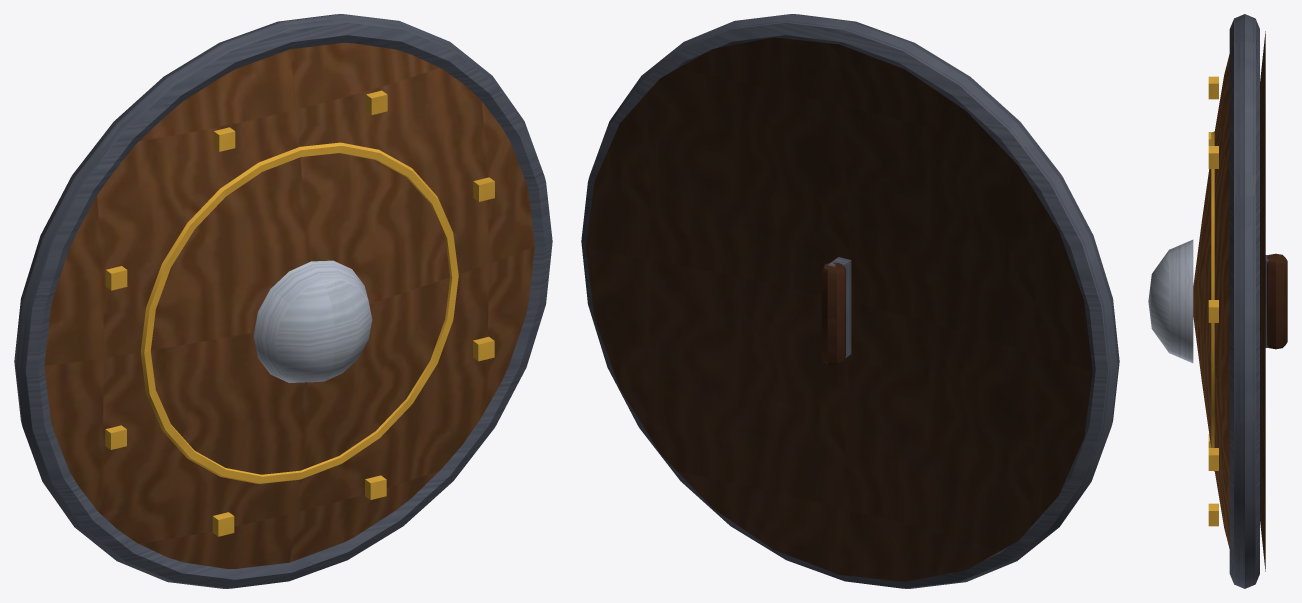
The model's file is round_shield.glb.
3 renders of one model, left to right at view 1: azimuth 30°, elevation 25°; view 2: azimuth 150°, elevation 25°; view 3: azimuth 270°, elevation 25°, orthographic. The views are drawn at different scales.
Parts seen in each view (by area): view 1: round_shield; view 2: round_shield; view 3: round_shield.
Boxes of the visible parts, x1,y1,x2,y2 form: round_shield: [14, 14, 552, 588]; round_shield: [581, 14, 1119, 588]; round_shield: [1148, 14, 1287, 588].
Size of the model in its own units: 0.834 by 0.834 by 0.202.
Materials: 6 (6 with a texture image).
